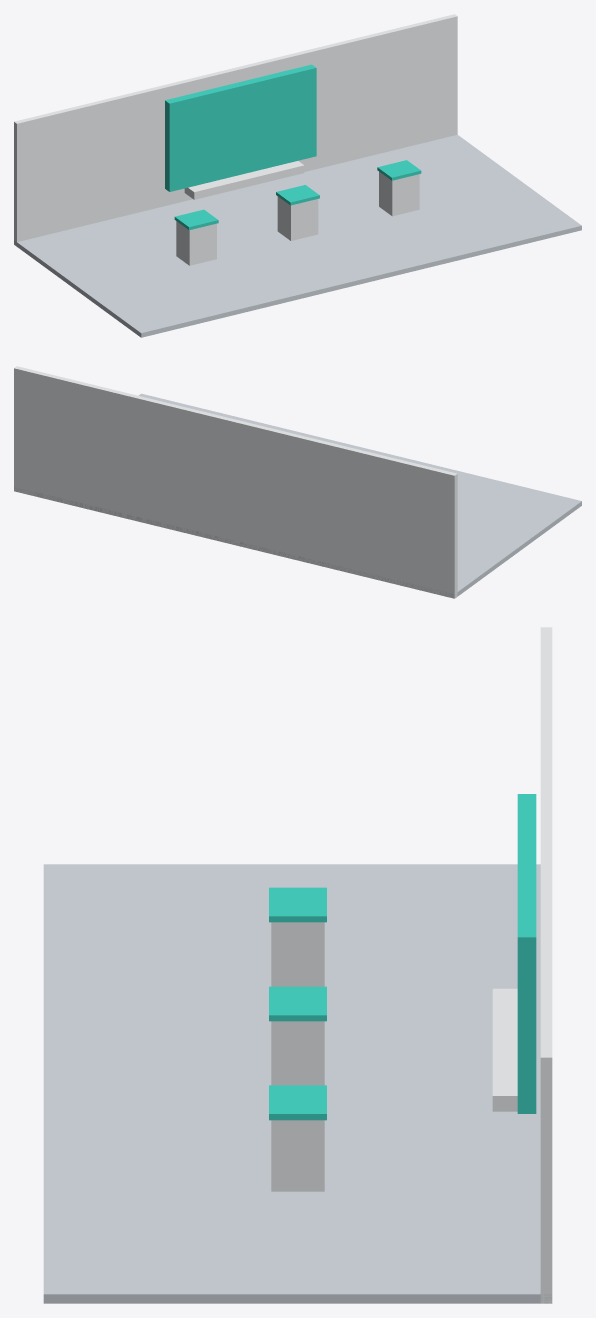
The picture shows the model from 3 angles, top to bottom: view 1: azimuth 30°, elevation 25°; view 2: azimuth 150°, elevation 25°; view 3: azimuth 270°, elevation 25°; orthographic projection. The views are drawn at different scales.
Parts seen in each view (by area): view 1: Exhibition Booth Concept; view 2: Exhibition Booth Concept; view 3: Exhibition Booth Concept.
Part boxes in pixels (box(x1,y1,x2,y2)): Exhibition Booth Concept: box(14, 14, 581, 337); Exhibition Booth Concept: box(14, 366, 581, 598); Exhibition Booth Concept: box(43, 627, 552, 1303).
Size of the model in its own units: 12 by 3.2 by 6.
